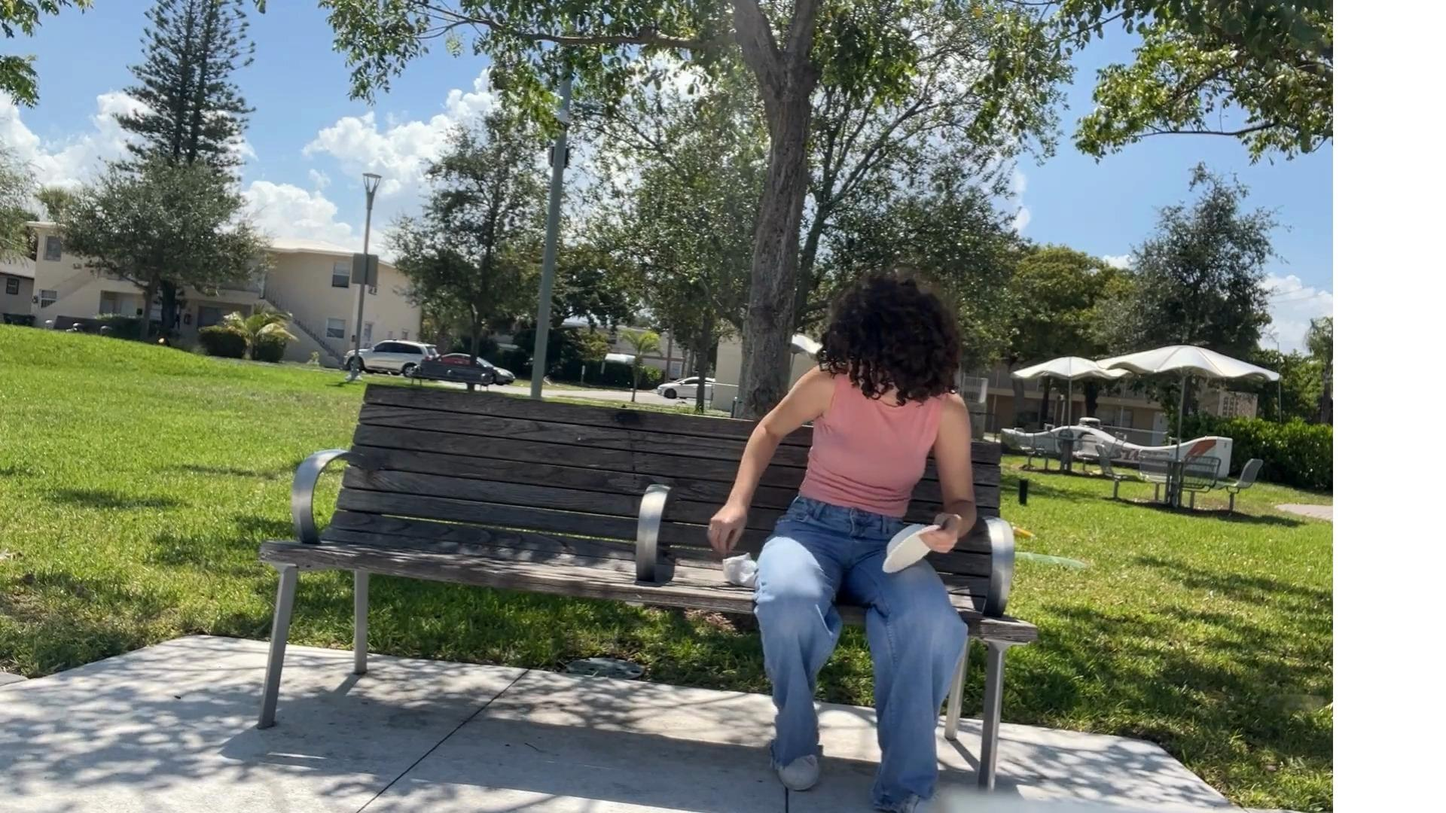Trash: (720, 550, 758, 591)
